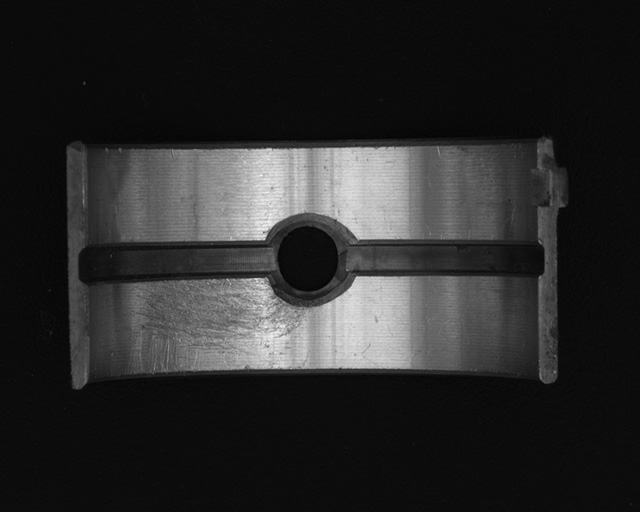gap: (78, 241, 278, 283), (344, 239, 544, 280)
hole: (267, 215, 354, 305)
scratch: (121, 278, 308, 375)
